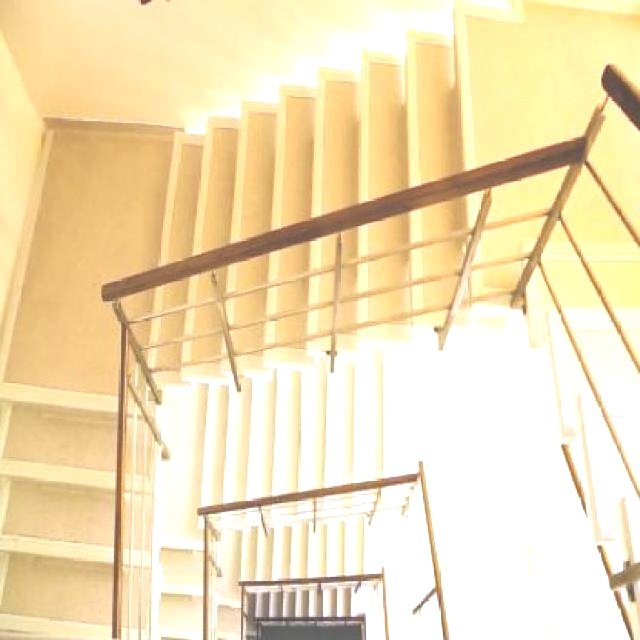stair: (152, 0, 638, 380), (0, 386, 169, 639), (191, 345, 387, 520), (390, 485, 565, 639)
